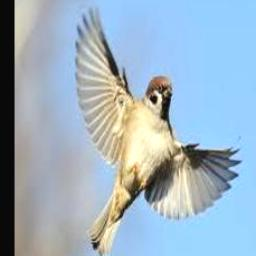Sparrow: (76, 5, 243, 256)
